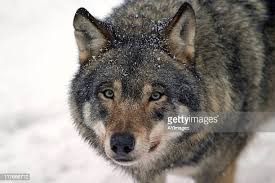Lobo: (64, 5, 260, 177)
